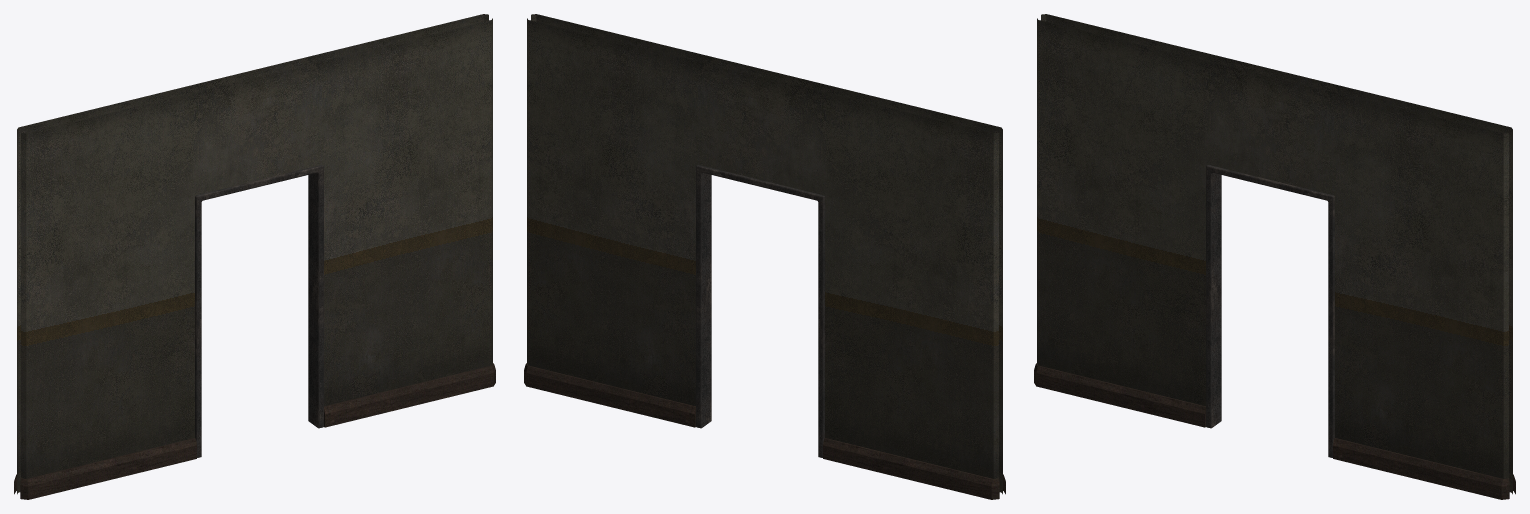
File: doorway_1.glb
3 views of the same model, side by side, from view 1: azimuth 30°, elevation 25°; view 2: azimuth 150°, elevation 25°; view 3: azimuth 330°, elevation 25° (orthographic).
Parts seen in each view (by area): view 1: doorway_1; view 2: doorway_1; view 3: doorway_1.
Boxes of the visible parts, x1,y1,x2,y2 form: doorway_1: (14, 14, 495, 499); doorway_1: (524, 14, 1005, 499); doorway_1: (1034, 14, 1515, 499).
Size of the model in its own units: 4.09 by 3 by 0.18.
3 materials, 3 textured.
